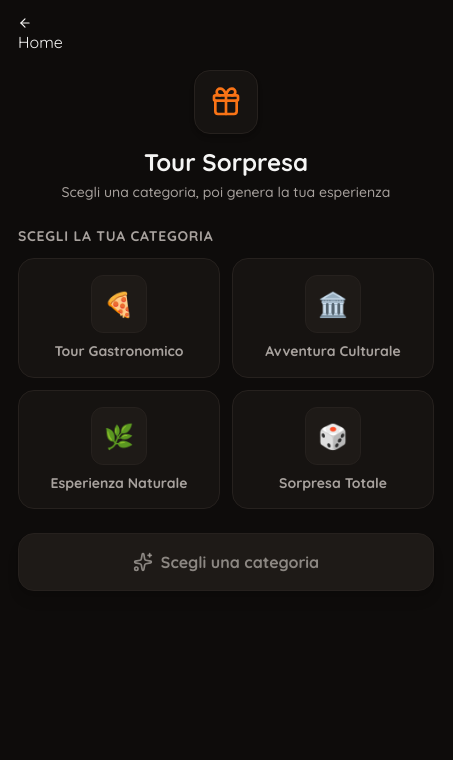
Test: P7b2 — Sorprendimi › passa al motore dieta e budget del primo accesso, senza un budget scritto a mano
The image size is (453, 760).
Click the heading "Tour Gastronomico". click: (119, 352)
box: [54,343,184,360]
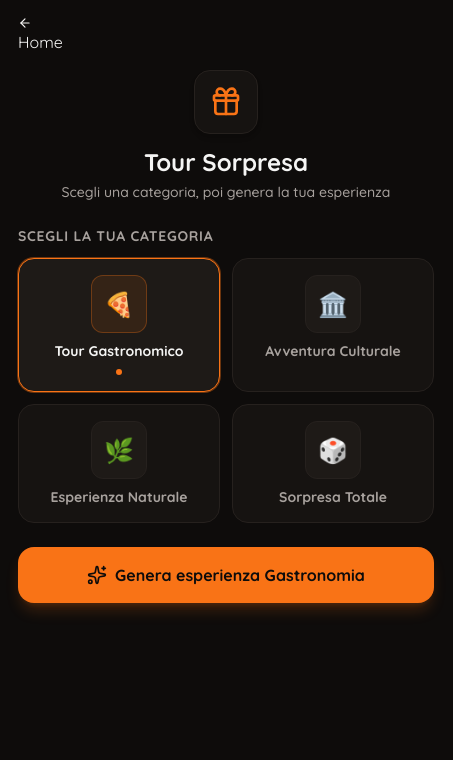
Click the button "Genera esperienza Gastronomia". click: (226, 575)
box: [18,547,434,603]
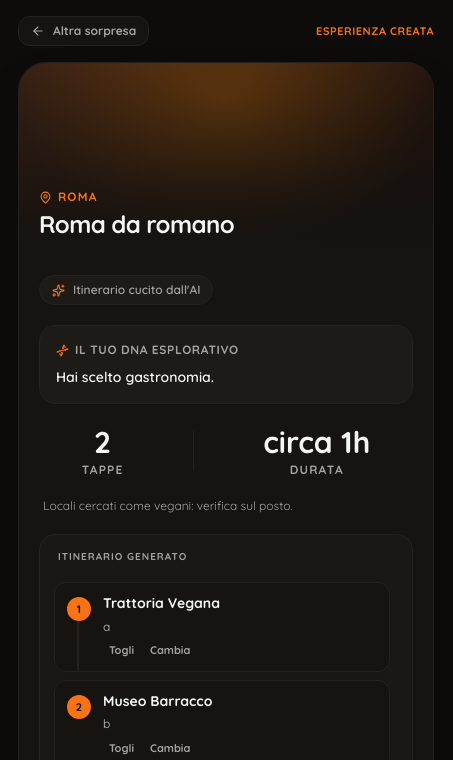
Expected: the text "Locali cercati come vegani: verifica sul posto." is shown, [43,498,293,513]
